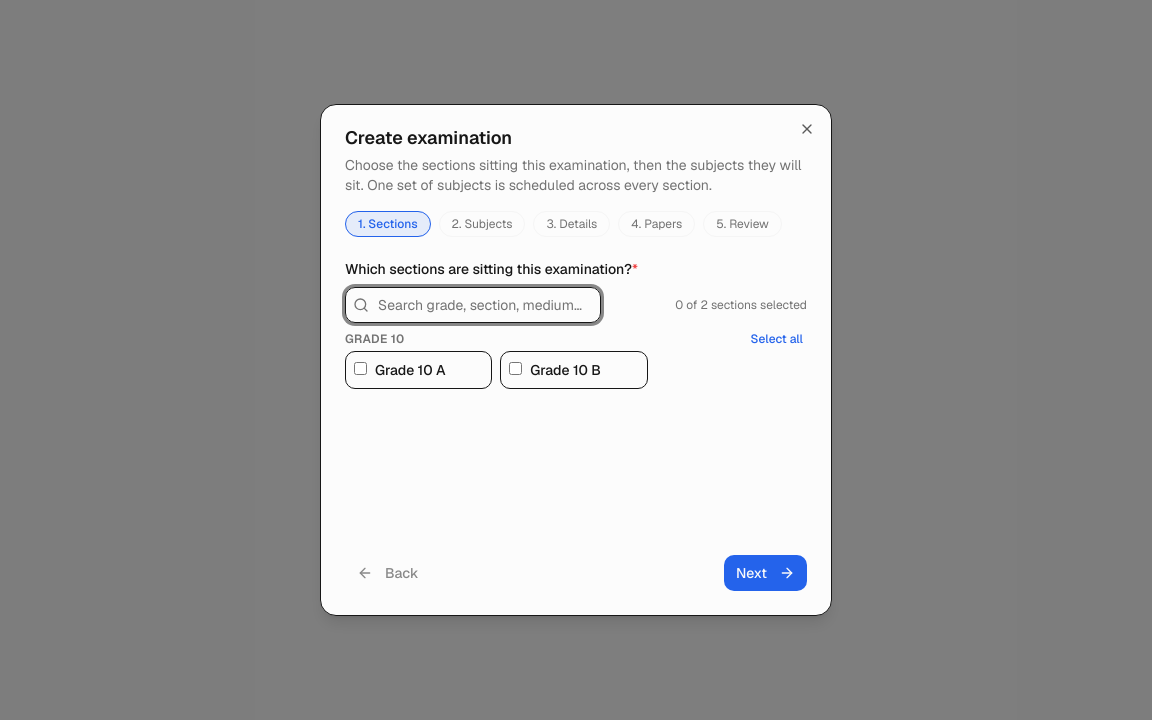
Test: create examination wizard › offers only the subjects every chosen section is taught
Click the checkbox labelled "Grade 10 A". click: (360, 368)
box: [354, 362, 367, 375]
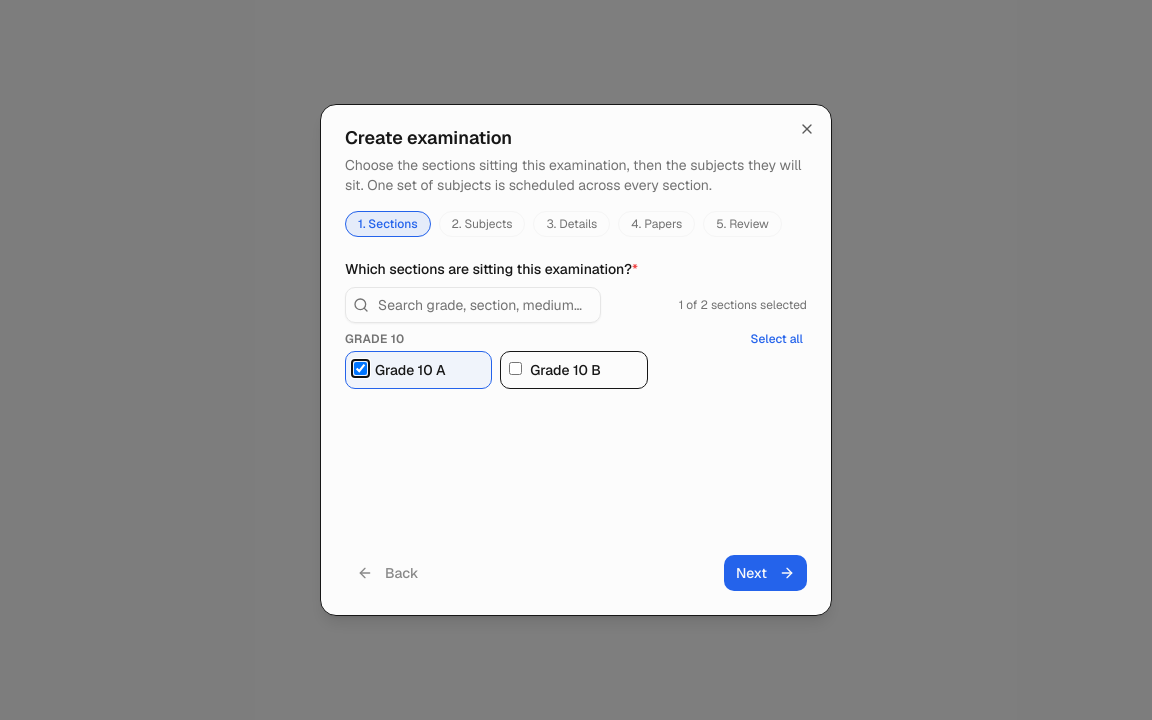
Click the checkbox labelled "Grade 10 B". click: (516, 368)
box: [509, 362, 522, 375]
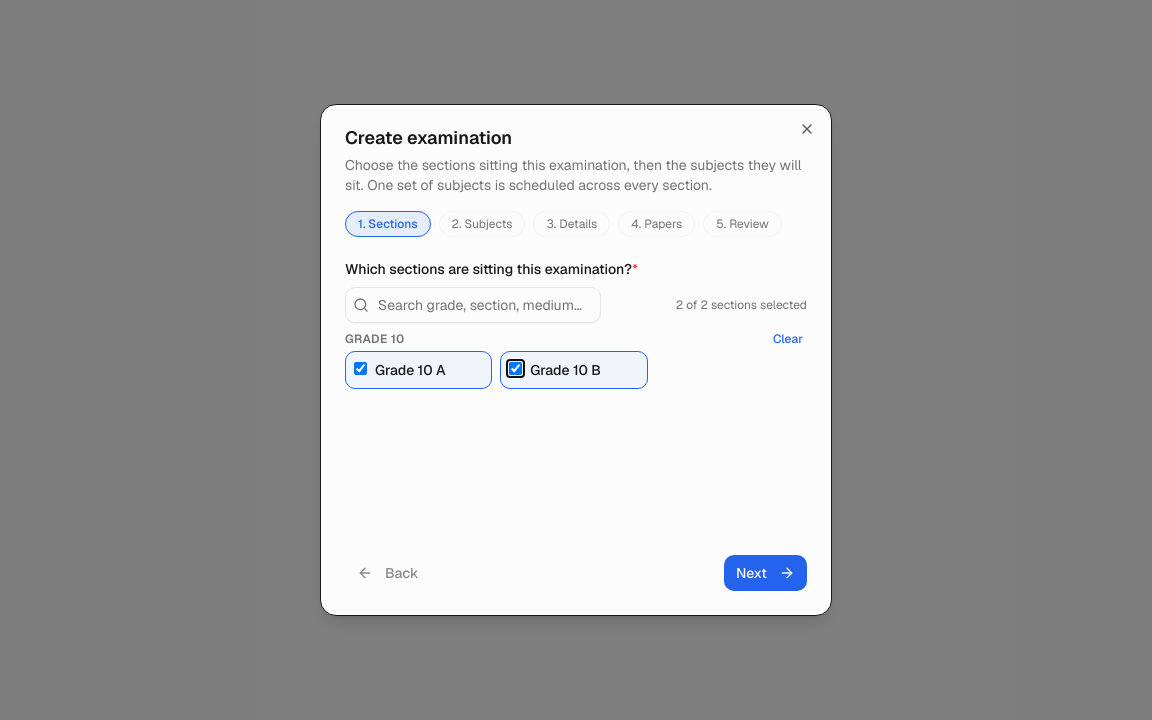
Click the button "Next". click: (765, 573)
box: [724, 555, 807, 591]
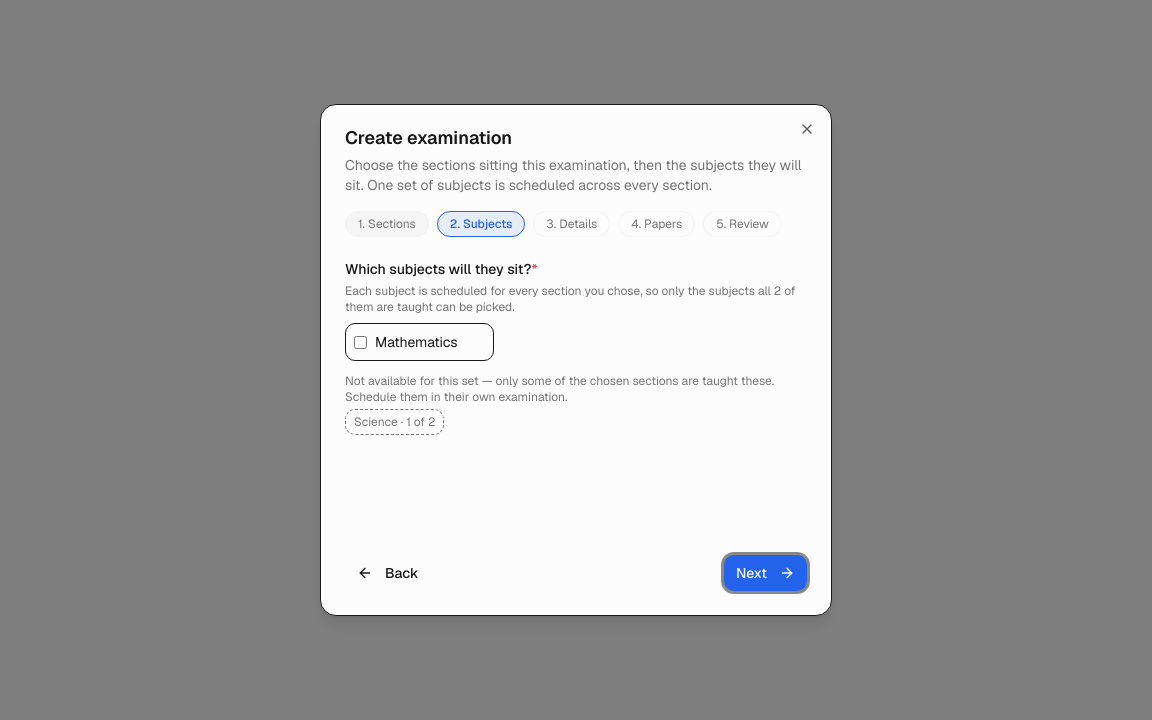
Now the checkbox labelled "Mathematics" is shown, box [354, 336, 367, 348]
Now the element with test id "partial-subjects" shows "Science · 1 of 2", box [345, 373, 807, 435]
